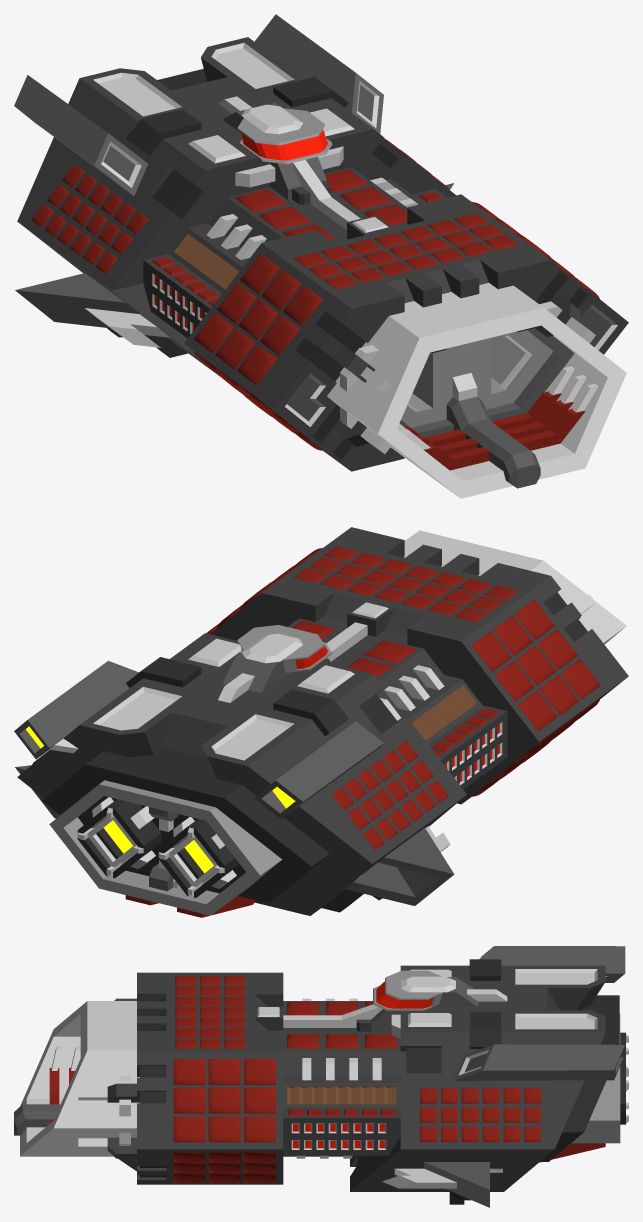
The model's file is Carrier03.fbx.
3 renders of one model, top to bottom at view 1: azimuth 30°, elevation 25°; view 2: azimuth 150°, elevation 25°; view 3: azimuth 270°, elevation 25°, orthographic. The views are drawn at different scales.
Visible parts, largest first — view 1: Mesh_HD; view 2: Mesh_HD; view 3: Mesh_HD.
Part boxes in pixels (box(x1,y1,x2,y2)): Mesh_HD: box(14, 14, 628, 498); Mesh_HD: box(14, 527, 628, 917); Mesh_HD: box(14, 946, 628, 1207).
Bounding box in the file's own units: 1059 × 551 × 1575.
